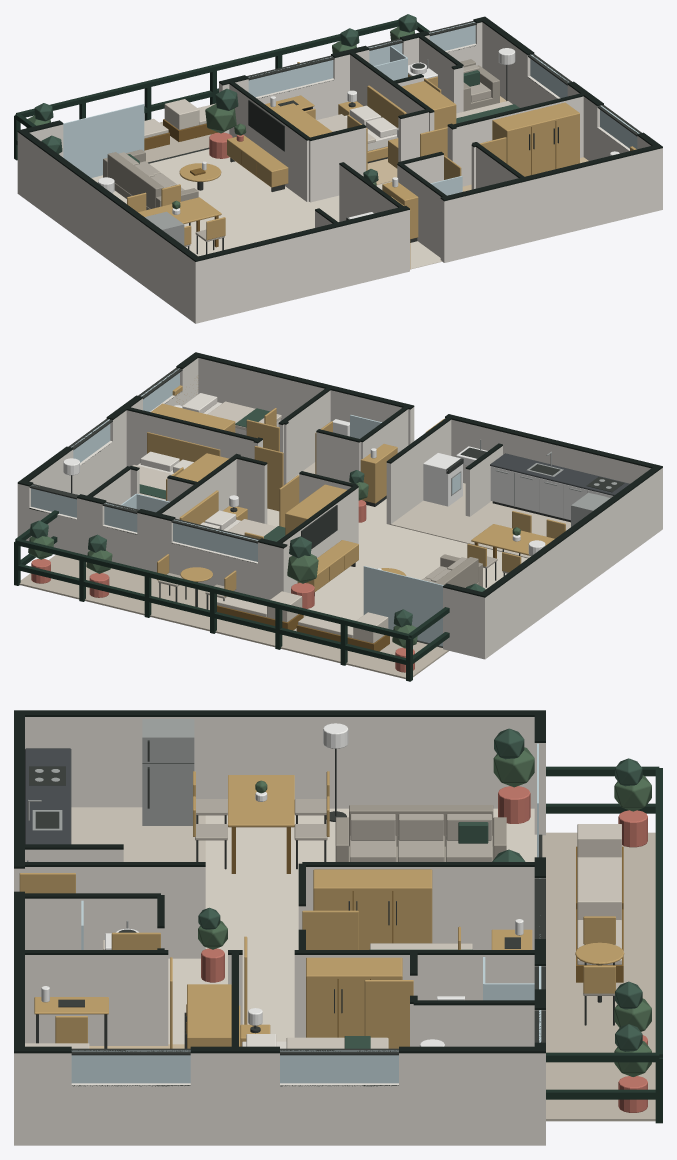
Rendered from interior-tipo-b.glb.
3 renders of one model, top to bottom at view 1: azimuth 30°, elevation 25°; view 2: azimuth 150°, elevation 25°; view 3: azimuth 270°, elevation 25°, orthographic. The views are drawn at different scales.
Visible parts, largest first — view 1: VIS__INTB_PAREDE, VIS__INTB_MADEIRA, VIS__INTB_VIDRO, VIS__INTB_CORTE, VIS__INTB_PISO, VIS__INTB_GUARDACORPO, VIS__INTB_ESCURO, VIS__INTB_ESTOFADO, VIS__INTB_SALVIA, VIS__INTB_TECIDO2, VIS__INTB_FOLHA, VIS__INTB_MADEIRA_ESC (+7 smaller); view 2: VIS__INTB_PAREDE, VIS__INTB_MADEIRA, VIS__INTB_VIDRO, VIS__INTB_CORTE, VIS__INTB_GUARDACORPO, VIS__INTB_VARANDA, VIS__INTB_PISO, VIS__INTB_BRANCO, VIS__INTB_TECIDO2, VIS__INTB_MOLHADO, VIS__INTB_ESCURO, VIS__INTB_SALVIA (+8 smaller); view 3: VIS__INTB_PAREDE, VIS__INTB_MADEIRA, VIS__INTB_VARANDA, VIS__INTB_CORTE, VIS__INTB_PISO, VIS__INTB_VIDRO, VIS__INTB_ESTOFADO2, VIS__INTB_GUARDACORPO, VIS__INTB_TECIDO2, VIS__INTB_ESCURO, VIS__INTB_INOX, VIS__INTB_MOLHADO (+7 smaller).
Boxes of the visible parts, x1=… form: VIS__INTB_PAREDE: x1=17, y1=22, x2=662, y2=323; VIS__INTB_MADEIRA: x1=127, y1=62, x2=636, y2=268; VIS__INTB_VIDRO: x1=63, y1=22, x2=639, y2=195; VIS__INTB_CORTE: x1=17, y1=16, x2=662, y2=261; VIS__INTB_PISO: x1=91, y1=149, x2=442, y2=269; VIS__INTB_GUARDACORPO: x1=14, y1=19, x2=429, y2=160; VIS__INTB_ESCURO: x1=148, y1=21, x2=641, y2=254; VIS__INTB_ESTOFADO: x1=103, y1=59, x2=499, y2=209; VIS__INTB_SALVIA: x1=34, y1=14, x2=519, y2=183; VIS__INTB_TECIDO2: x1=144, y1=99, x2=512, y2=143; VIS__INTB_FOLHA: x1=26, y1=26, x2=414, y2=209; VIS__INTB_MADEIRA_ESC: x1=144, y1=119, x2=556, y2=247; VIS__INTB_PAREDE: x1=17, y1=358, x2=662, y2=659; VIS__INTB_MADEIRA: x1=147, y1=377, x2=565, y2=596; VIS__INTB_VIDRO: x1=31, y1=368, x2=460, y2=646; VIS__INTB_CORTE: x1=17, y1=352, x2=662, y2=597; VIS__INTB_GUARDACORPO: x1=14, y1=510, x2=449, y2=681; VIS__INTB_VARANDA: x1=19, y1=555, x2=448, y2=679; VIS__INTB_PISO: x1=267, y1=499, x2=527, y2=620; VIS__INTB_BRANCO: x1=63, y1=405, x2=612, y2=569; VIS__INTB_TECIDO2: x1=132, y1=401, x2=388, y2=643; VIS__INTB_MOLHADO: x1=288, y1=462, x2=570, y2=558; VIS__INTB_ESCURO: x1=29, y1=367, x2=624, y2=647; VIS__INTB_SALVIA: x1=29, y1=408, x2=485, y2=627; VIS__INTB_PAREDE: x1=14, y1=717, x2=545, y2=1145; VIS__INTB_MADEIRA: x1=19, y1=771, x2=624, y2=1048; VIS__INTB_VARANDA: x1=542, y1=832, x2=655, y2=1121; VIS__INTB_CORTE: x1=14, y1=710, x2=545, y2=1086; VIS__INTB_PISO: x1=168, y1=808, x2=536, y2=1044; VIS__INTB_VIDRO: x1=71, y1=743, x2=541, y2=1083; VIS__INTB_ESTOFADO2: x1=195, y1=799, x2=614, y2=995; VIS__INTB_GUARDACORPO: x1=546, y1=766, x2=662, y2=1123; VIS__INTB_TECIDO2: x1=25, y1=824, x2=621, y2=1048; VIS__INTB_ESCURO: x1=29, y1=740, x2=614, y2=1055; VIS__INTB_INOX: x1=27, y1=719, x2=194, y2=928; VIS__INTB_MOLHADO: x1=71, y1=807, x2=205, y2=861.
Bounding box in the file's own units: 10.85 × 1.51 × 8.72.
